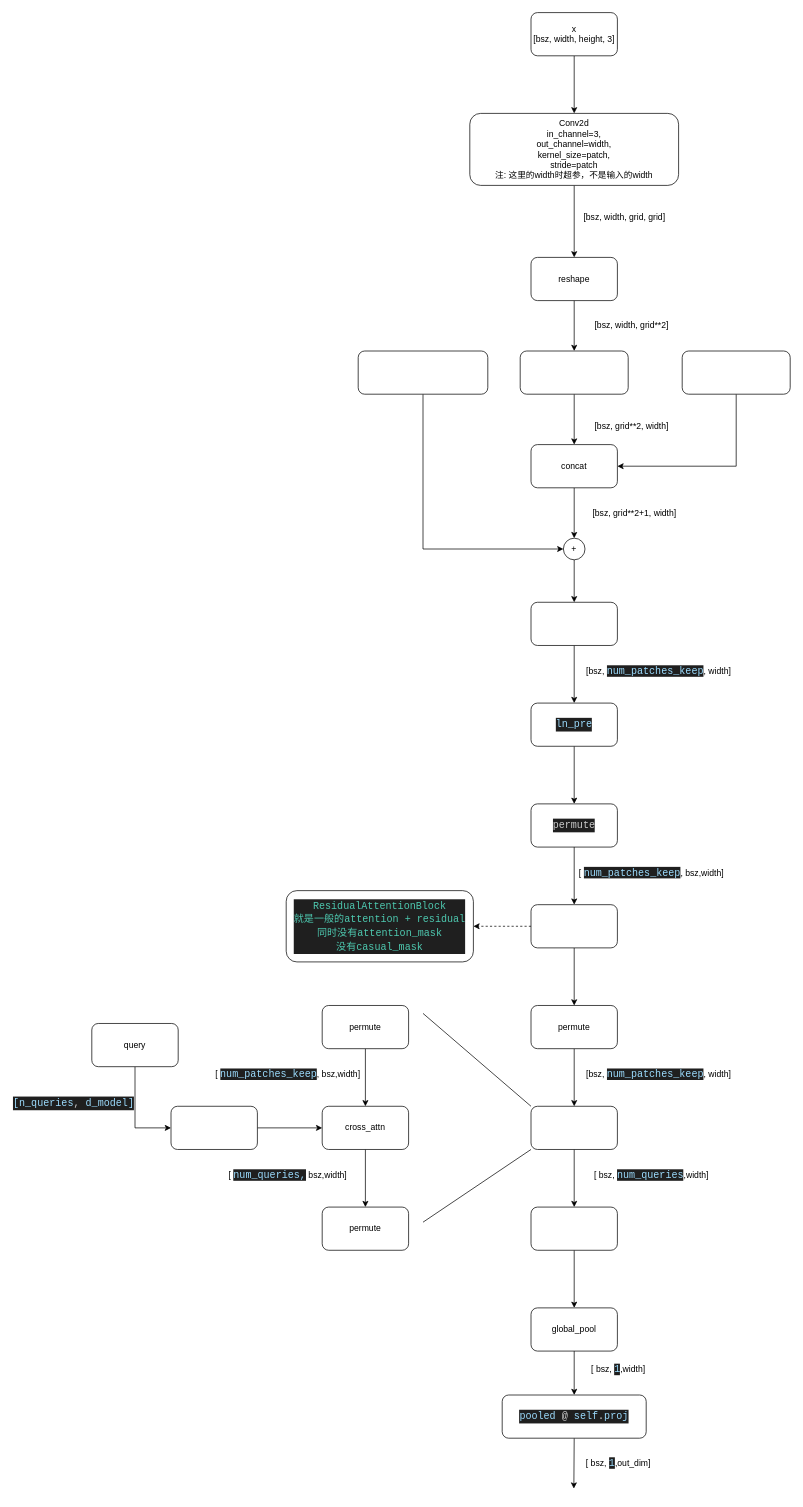
This 803x1507 diagram has some shape labels left out. The shapes that lost their labels are listed below. From the top down, each one's centre as x and y in pixels, then its label:
the point at 422,372: positional_embedding
the point at 573,372: permute( 0 , 2 , 1 )
the point at 735,372: class_embedding
the point at 573,623: patch_dropout
the point at 573,926: Transformer
the point at 213,1127: ln_q
the point at 573,1127: attn_pool
the point at 573,1228: ln_post
